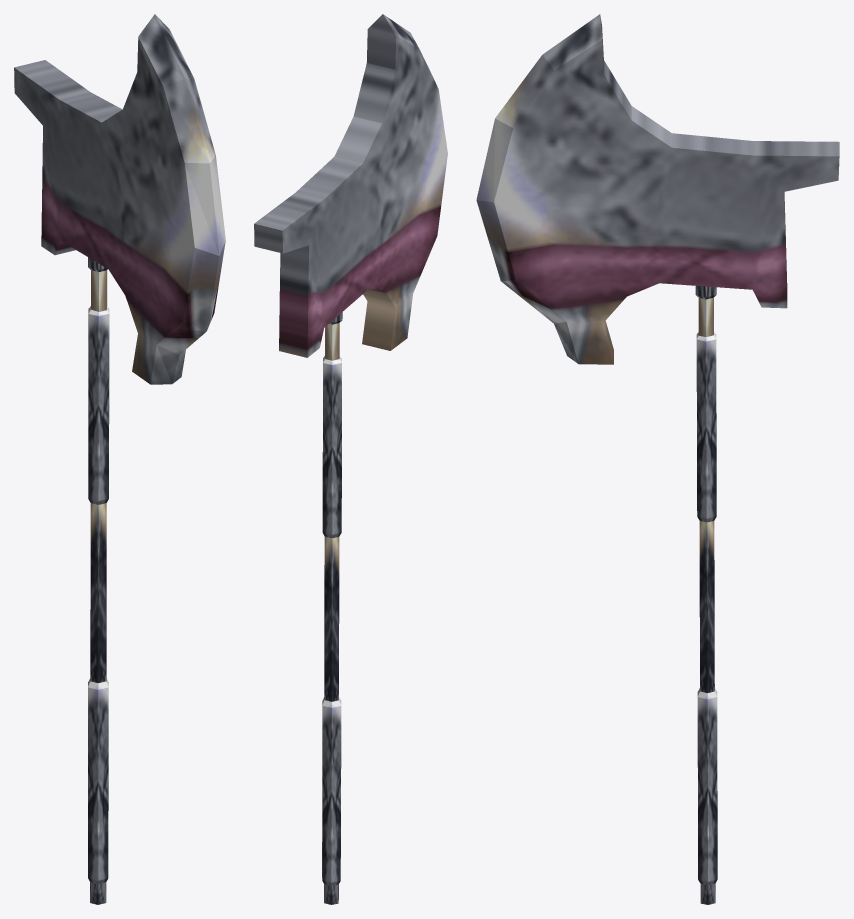
File: heavyaxeman00_1.obj
The picture shows the model from 3 angles, left to right: view 1: azimuth 30°, elevation 25°; view 2: azimuth 150°, elevation 25°; view 3: azimuth 270°, elevation 25°; orthographic projection. The views are drawn at different scales.
Visible parts, largest first — view 1: heavyaxeman00_1; view 2: heavyaxeman00_1; view 3: heavyaxeman00_1.
Part boxes in pixels (bbox=[...]): heavyaxeman00_1: bbox=[14, 14, 225, 904]; heavyaxeman00_1: bbox=[254, 14, 447, 904]; heavyaxeman00_1: bbox=[476, 14, 839, 904].
Bounding box in the file's own units: 0.09 × 2.56 × 0.95.
